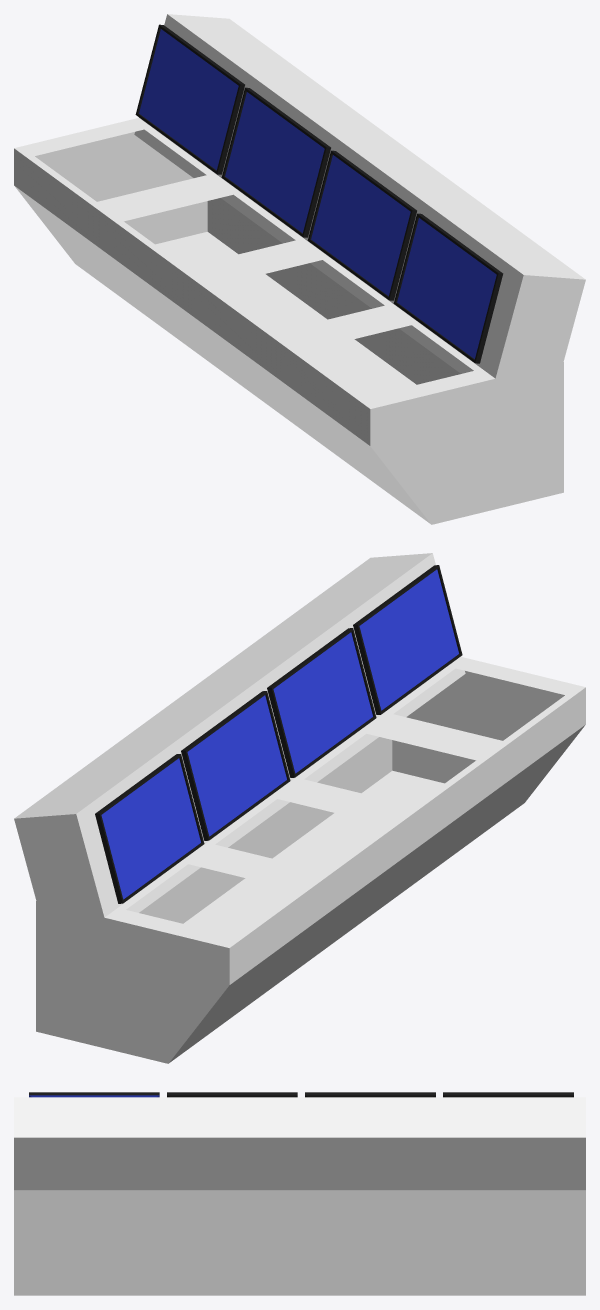
Rendered from moneydroptable.glb.
3 renders of one model, top to bottom at view 1: azimuth 30°, elevation 25°; view 2: azimuth 150°, elevation 25°; view 3: azimuth 270°, elevation 25°, orthographic. The views are drawn at different scales.
Parts seen in each view (by area): view 1: Cube, Cube.001, group1454904968.001, group1454904968, group1454904968.003, group1454904968.002; view 2: Cube, Cube.001, group1454904968.003, group1454904968, group1454904968.001, group1454904968.002; view 3: Cube, Cube.001, group1454904968, group1454904968.001, group1454904968.003, group1454904968.002.
Boxes of the visible parts, <box> form: Cube: <box>14,118,563,524</box>; Cube.001: <box>134,14,585,400</box>; group1454904968.001: <box>393,213,503,363</box>; group1454904968: <box>135,24,244,174</box>; group1454904968.003: <box>221,87,330,237</box>; group1454904968.002: <box>307,150,416,300</box>; Cube: <box>36,657,585,1063</box>; Cube.001: <box>14,553,465,939</box>; group1454904968.003: <box>181,691,290,840</box>; group1454904968: <box>95,754,204,903</box>; group1454904968.001: <box>353,565,462,714</box>; group1454904968.002: <box>267,628,376,777</box>; Cube: <box>14,1190,585,1295</box>; Cube.001: <box>14,1097,585,1190</box>; group1454904968: <box>443,1092,573,1097</box>; group1454904968.001: <box>29,1092,159,1097</box>; group1454904968.003: <box>305,1092,435,1097</box>; group1454904968.002: <box>167,1092,297,1097</box>.
Size of the model in its own units: 3.92 by 3.96 by 11.24.
